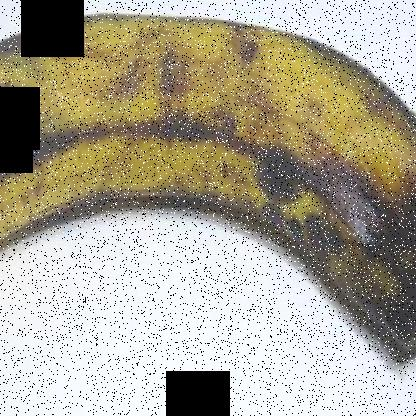overripe: (1, 4, 415, 389)
rotten: (292, 142, 415, 379)
